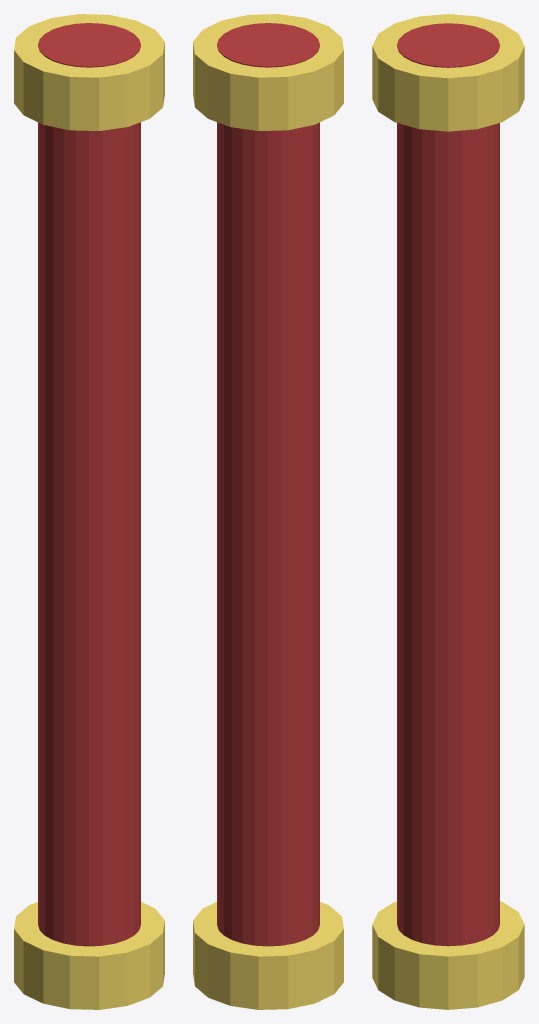
Rendered from imperial_pillar_dougong.glb.
The picture shows the model from 3 angles, left to right: view 1: azimuth 30°, elevation 25°; view 2: azimuth 150°, elevation 25°; view 3: azimuth 270°, elevation 25°; orthographic projection.
Visible parts, largest first — view 1: Cylinder, Cylinder.002, Cylinder.001; view 2: Cylinder, Cylinder.002, Cylinder.001; view 3: Cylinder, Cylinder.002, Cylinder.001.
Part boxes in pixels (box(x1,y1,x2,y2)): Cylinder: box(38, 23, 140, 946); Cylinder.002: box(14, 14, 164, 130); Cylinder.001: box(14, 902, 164, 1009); Cylinder: box(217, 23, 319, 946); Cylinder.002: box(193, 14, 343, 130); Cylinder.001: box(193, 902, 343, 1009); Cylinder: box(397, 23, 499, 946); Cylinder.002: box(372, 14, 524, 131); Cylinder.001: box(372, 901, 524, 1009).
Size of the model in its own units: 1.24 by 8.4 by 1.24.
